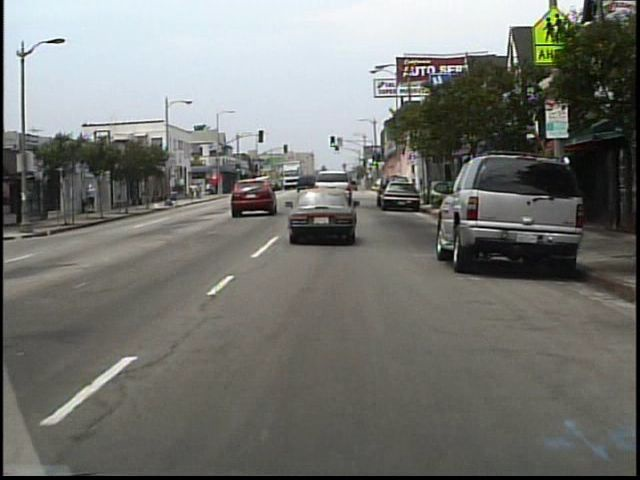person: (89, 184, 102, 214)
